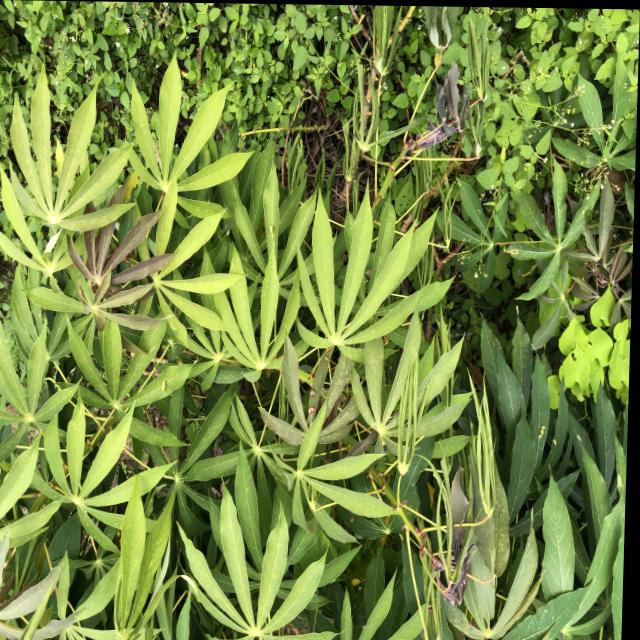Maleza: (184, 0, 631, 71), (442, 2, 530, 187), (0, 0, 149, 73), (558, 294, 636, 401)
Mosca: (155, 363, 174, 399), (302, 388, 321, 411), (265, 223, 281, 245), (533, 419, 544, 443), (346, 513, 361, 529), (551, 436, 563, 453)
